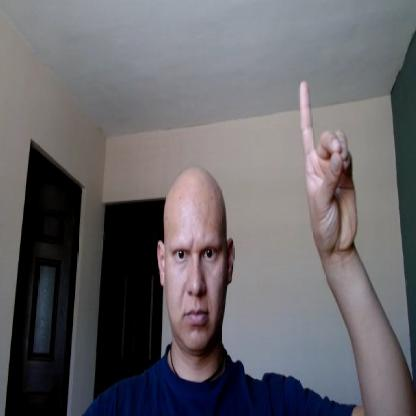D: (299, 80, 359, 254)
